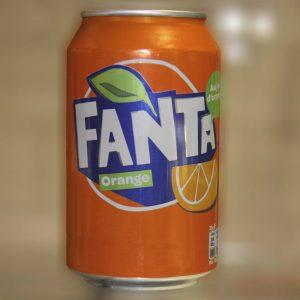metal: (68, 12, 220, 290)
